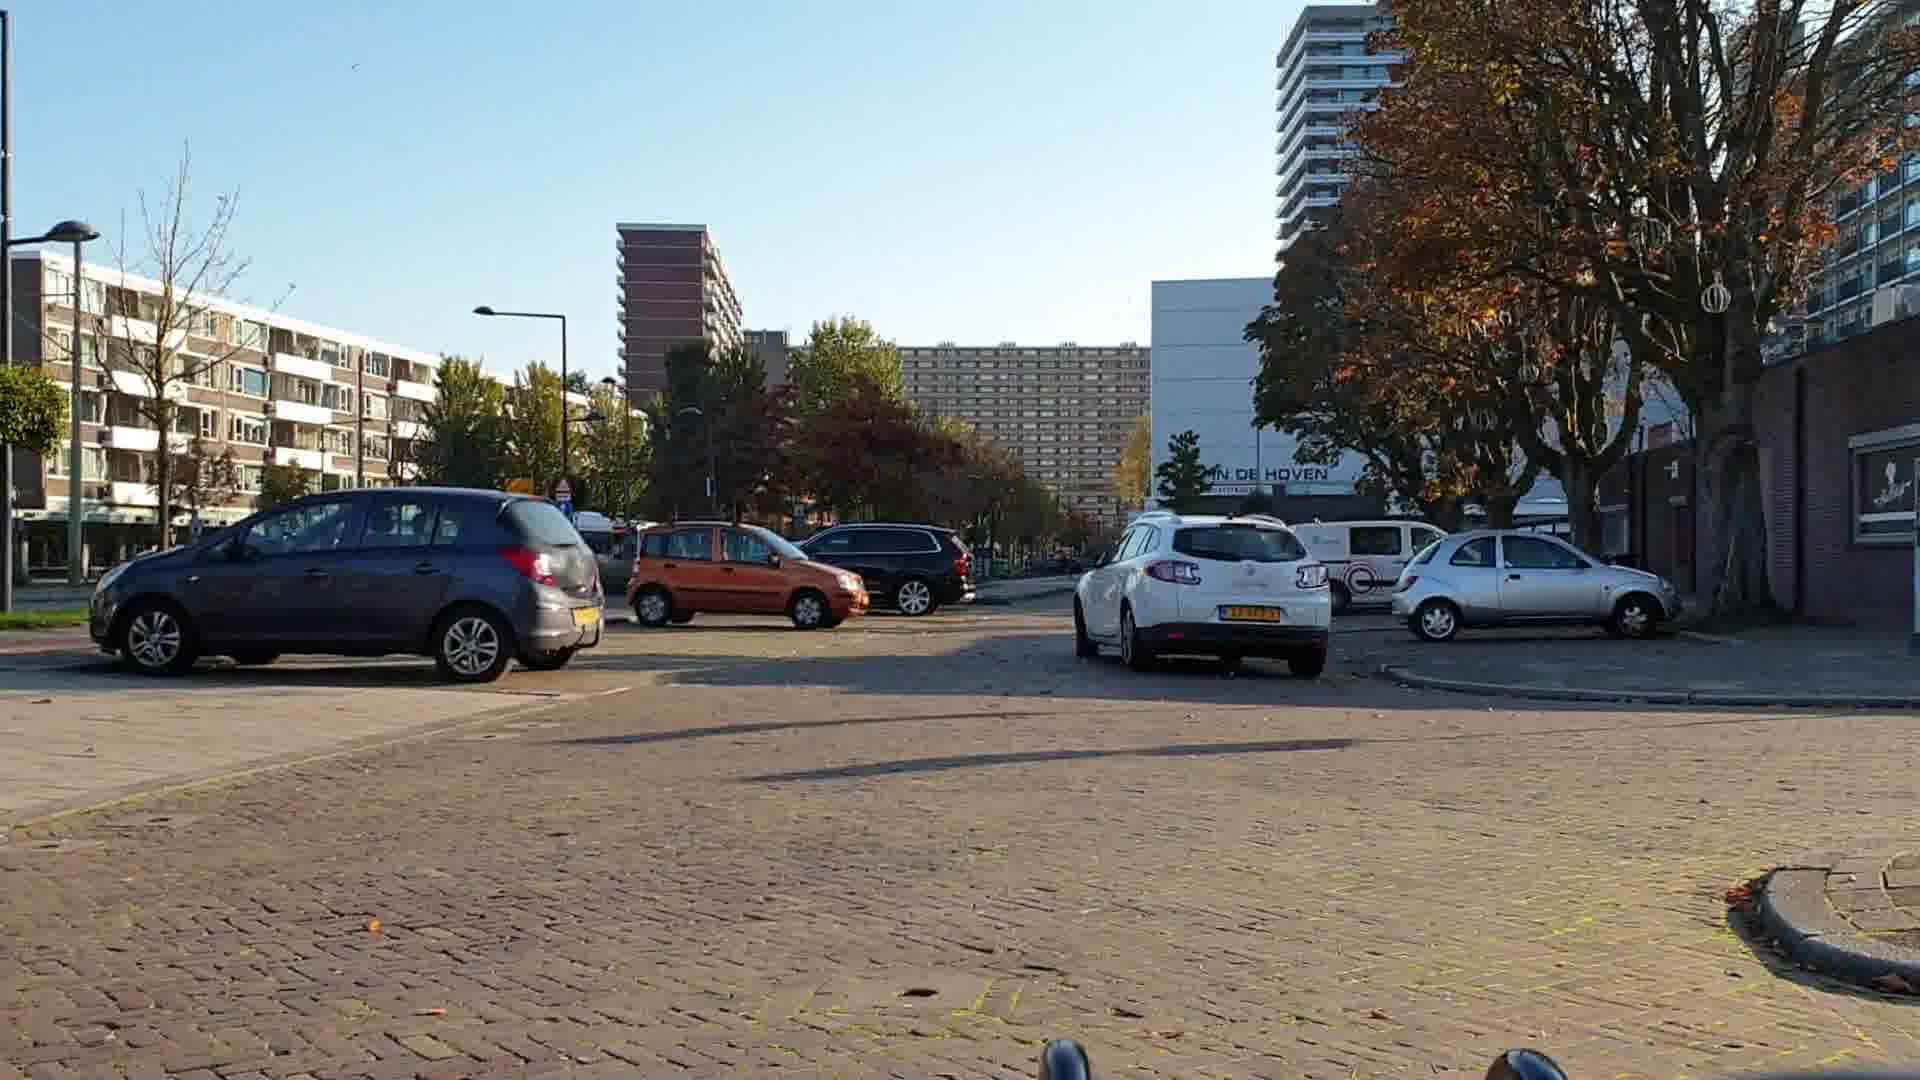car: (84, 487, 603, 683), (1056, 512, 1338, 675), (1393, 527, 1685, 642), (629, 524, 872, 640)
